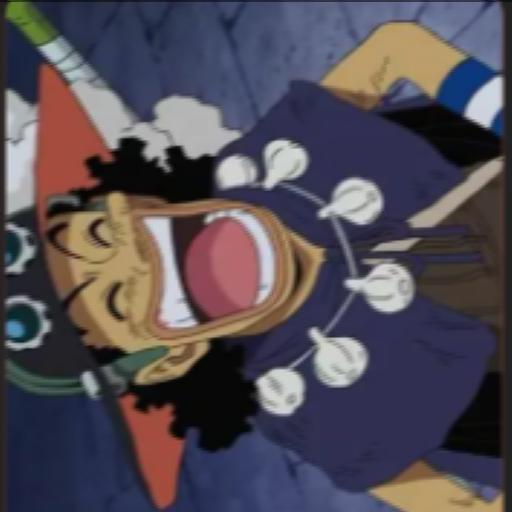Usopp: (0, 13, 505, 511)
